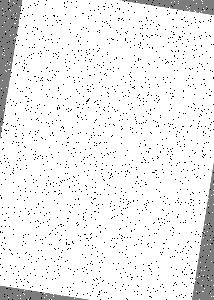SMG: (7, 143, 199, 219), (17, 83, 194, 157)
